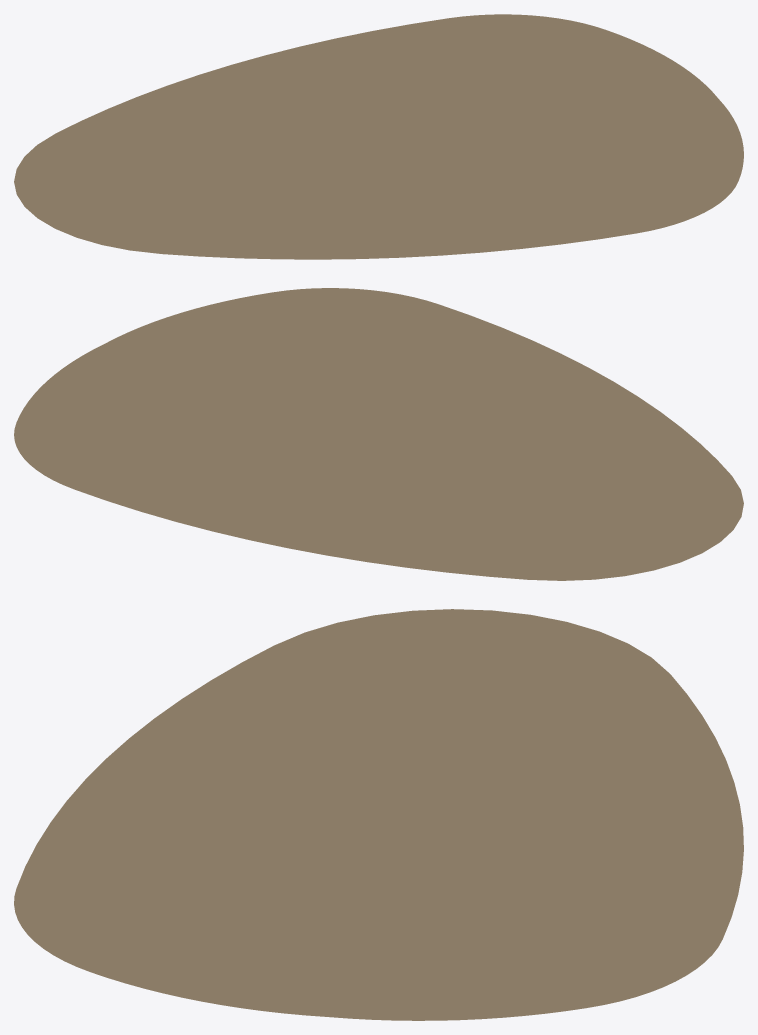
File: Flower_Materi0150160560156_0.obj
3 views of the same model, one above another, from view 1: azimuth 30°, elevation 25°; view 2: azimuth 150°, elevation 25°; view 3: azimuth 270°, elevation 25° (orthographic). The views are drawn at different scales.
Visible parts, largest first — view 1: Flower_Materi0150160560156_0; view 2: Flower_Materi0150160560156_0; view 3: Flower_Materi0150160560156_0.
Part boxes in pixels (bbox=[...]): Flower_Materi0150160560156_0: bbox=[14, 14, 743, 259]; Flower_Materi0150160560156_0: bbox=[14, 288, 743, 580]; Flower_Materi0150160560156_0: bbox=[14, 609, 743, 1020].
Size of the model in its own units: 0.2056 by 0 by 0.154.
